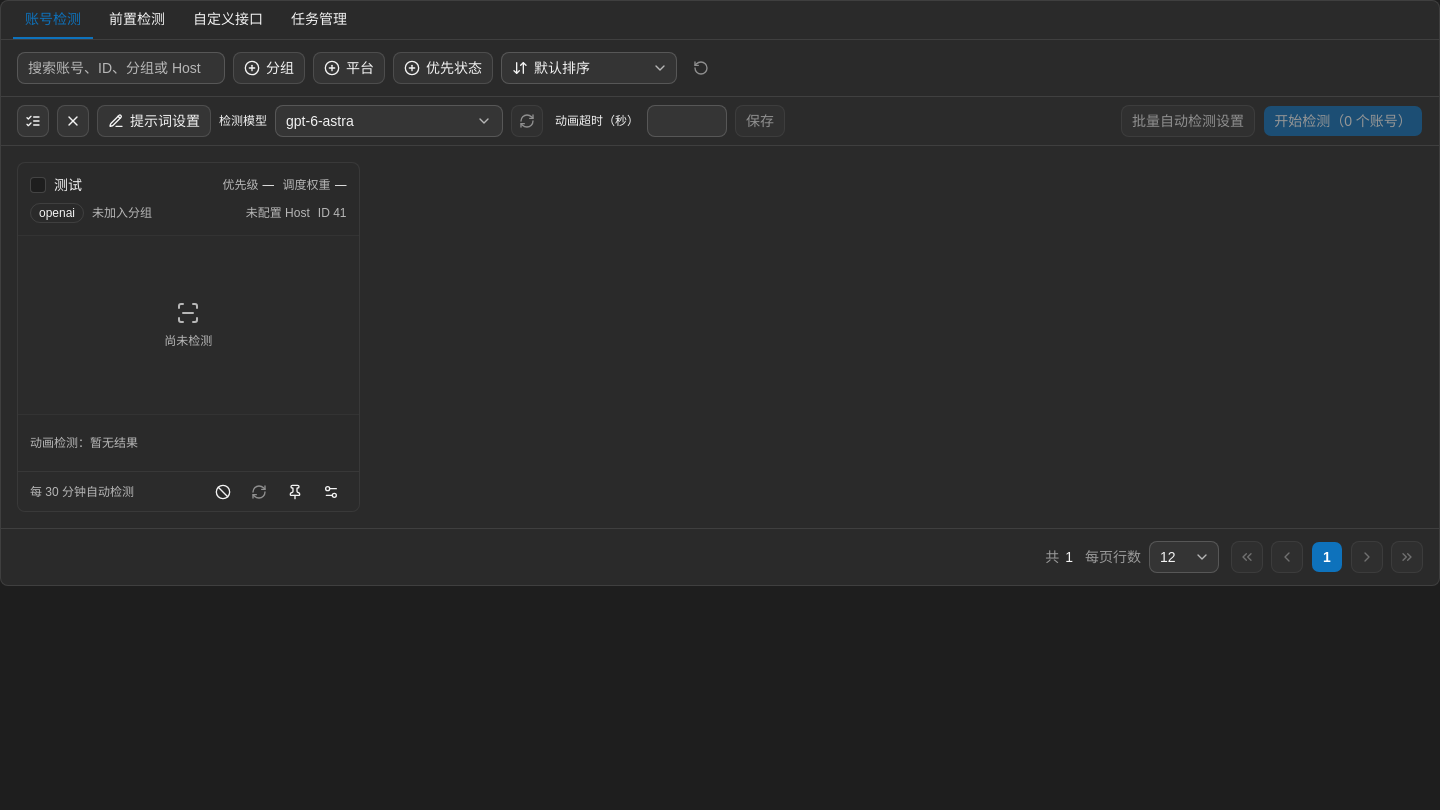
Test: 切换 Tab 后自动设置分别回显对应计划
Click the button named "自动检测设置": (330, 492) [314,476,346,508]
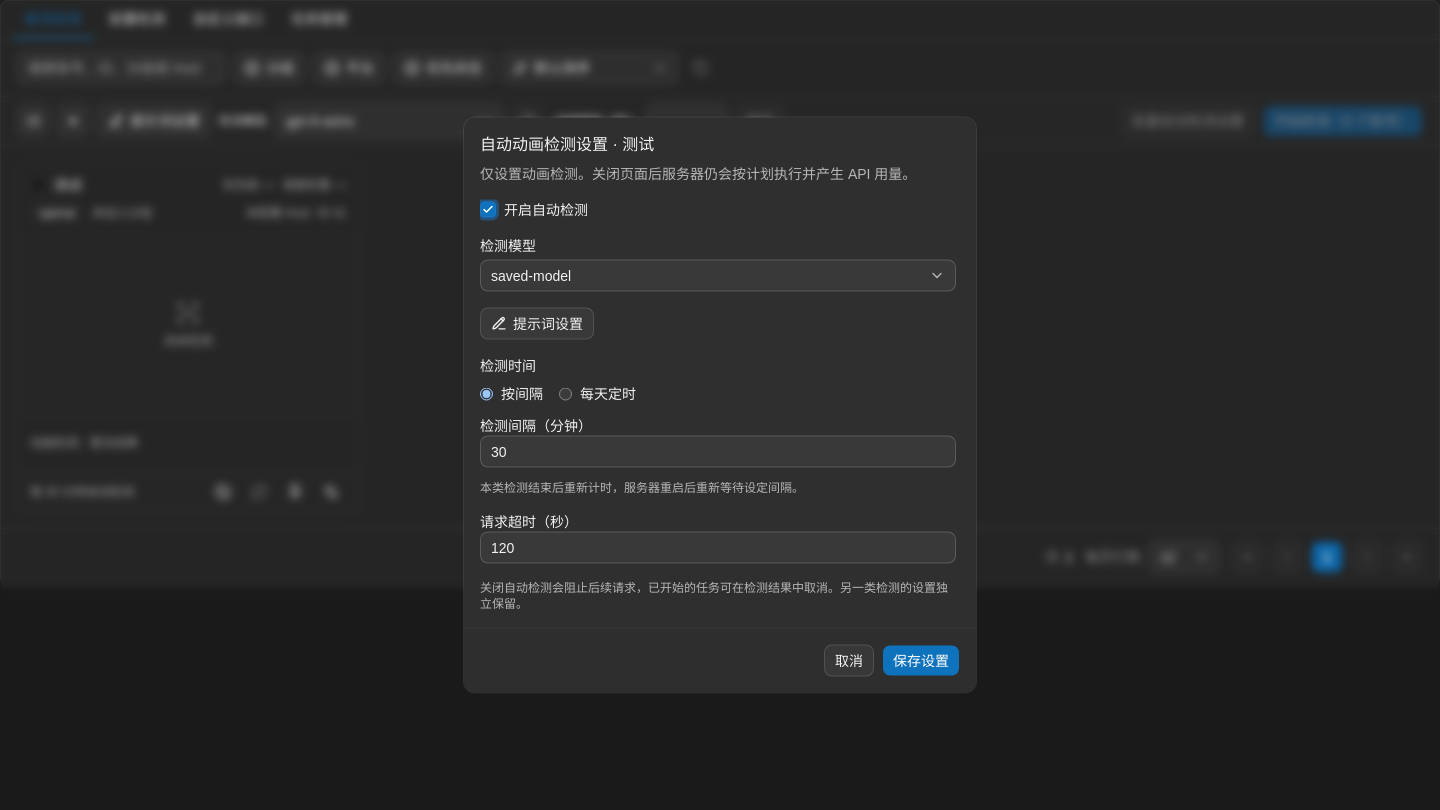
Result: the dropdown named "检测模型" reads "saved-model" at [480,260,956,292]
Click the button "取消": (849, 660) [824,644,874,676]
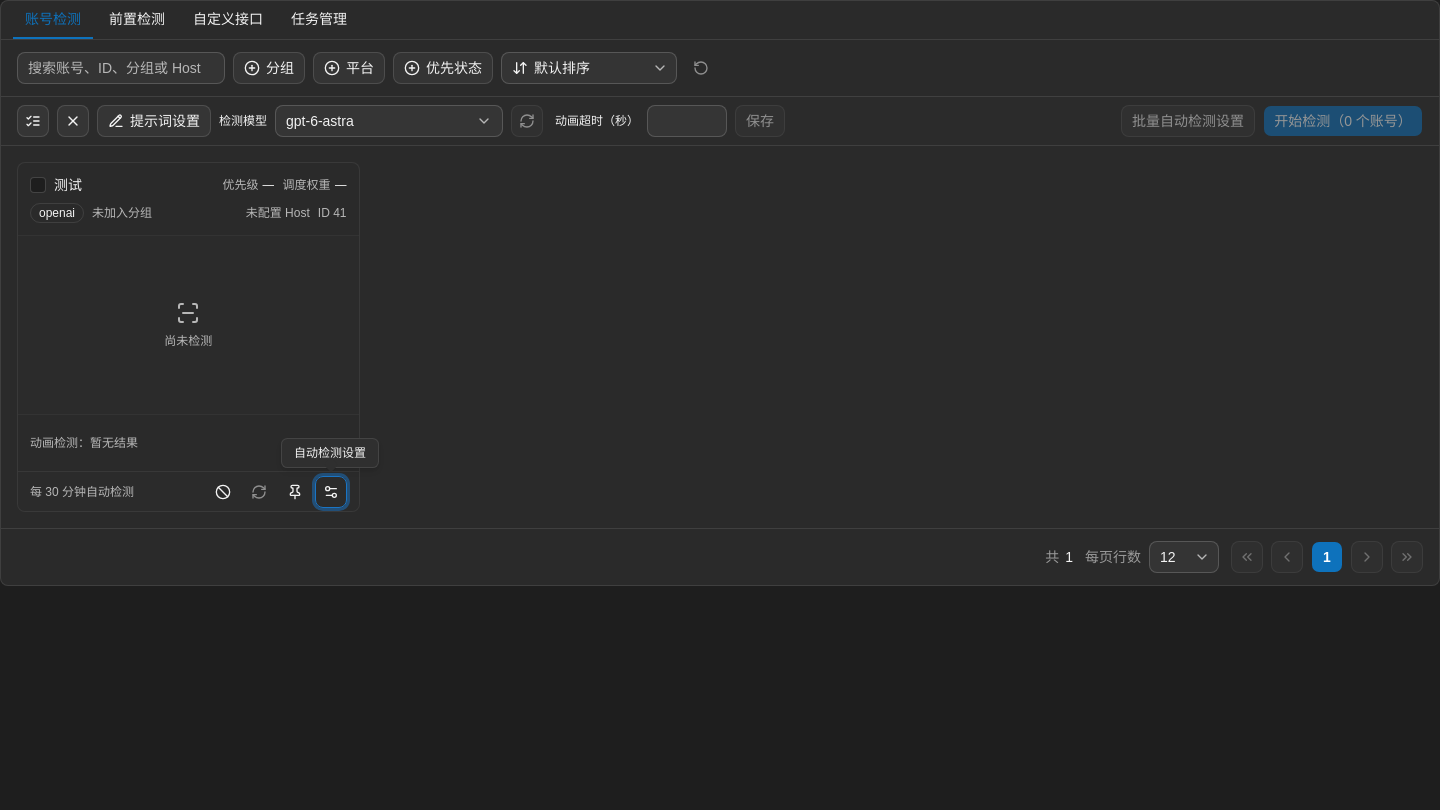
Click the tab "前置检测": (137, 20) [97,1,177,39]
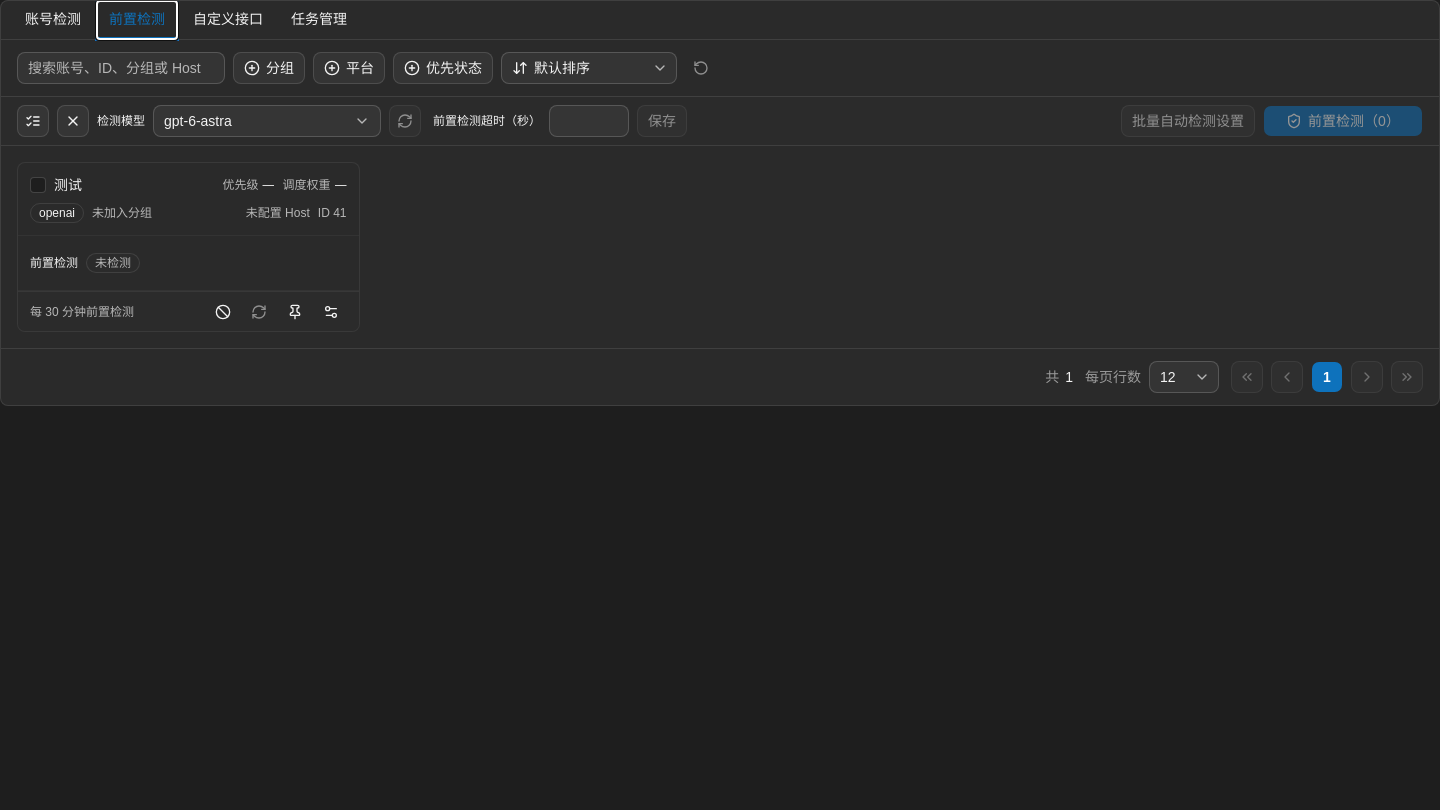
Click the button named "自动检测设置": (330, 312) [314,296,346,328]
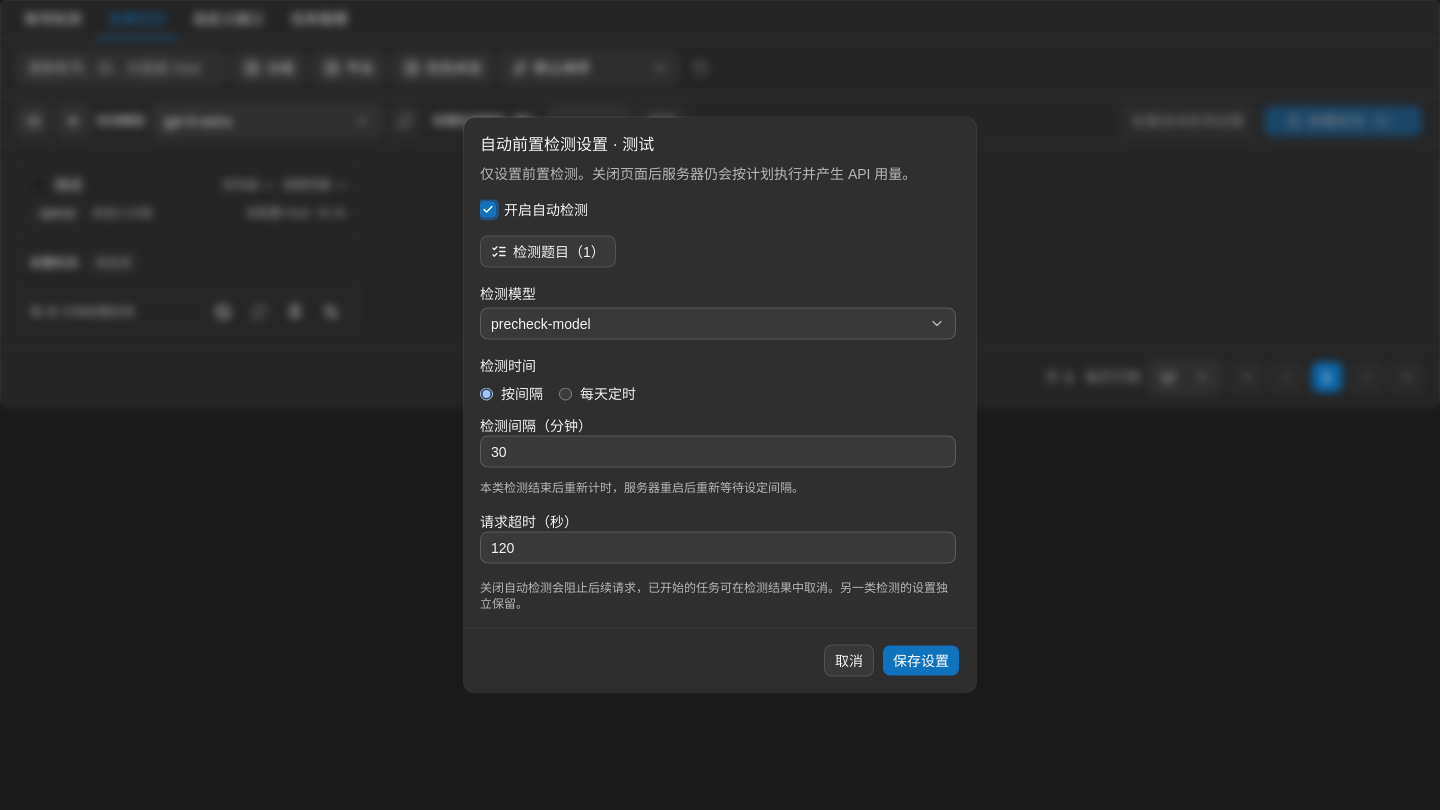
Result: the dropdown named "检测模型" reads "precheck-model" at [480,308,956,340]
Result: the button with aria-label "选择前置检测题目" is shown at [480,236,616,268]
